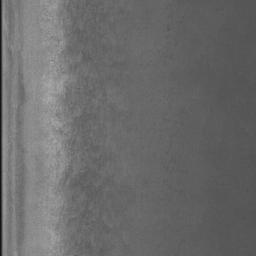Silk spot: (52, 0, 114, 232), (82, 0, 108, 38), (60, 231, 92, 256), (93, 152, 112, 170), (100, 221, 112, 234), (99, 244, 107, 256), (110, 62, 126, 67)
